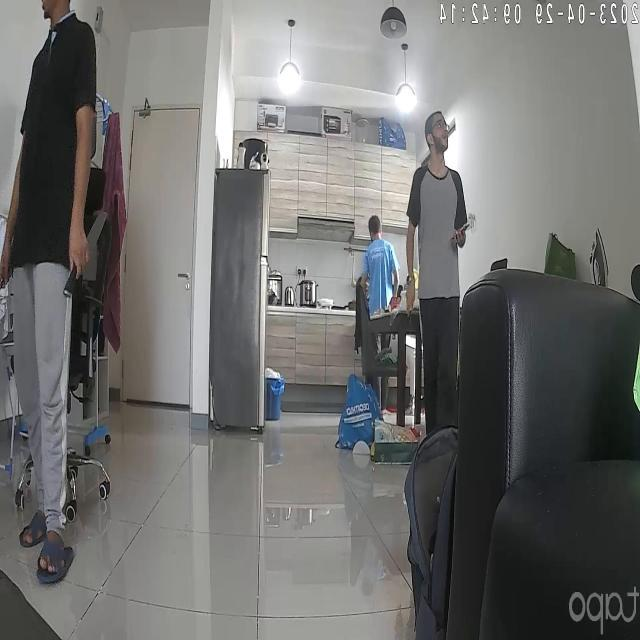Knife: (60, 199, 116, 294)
